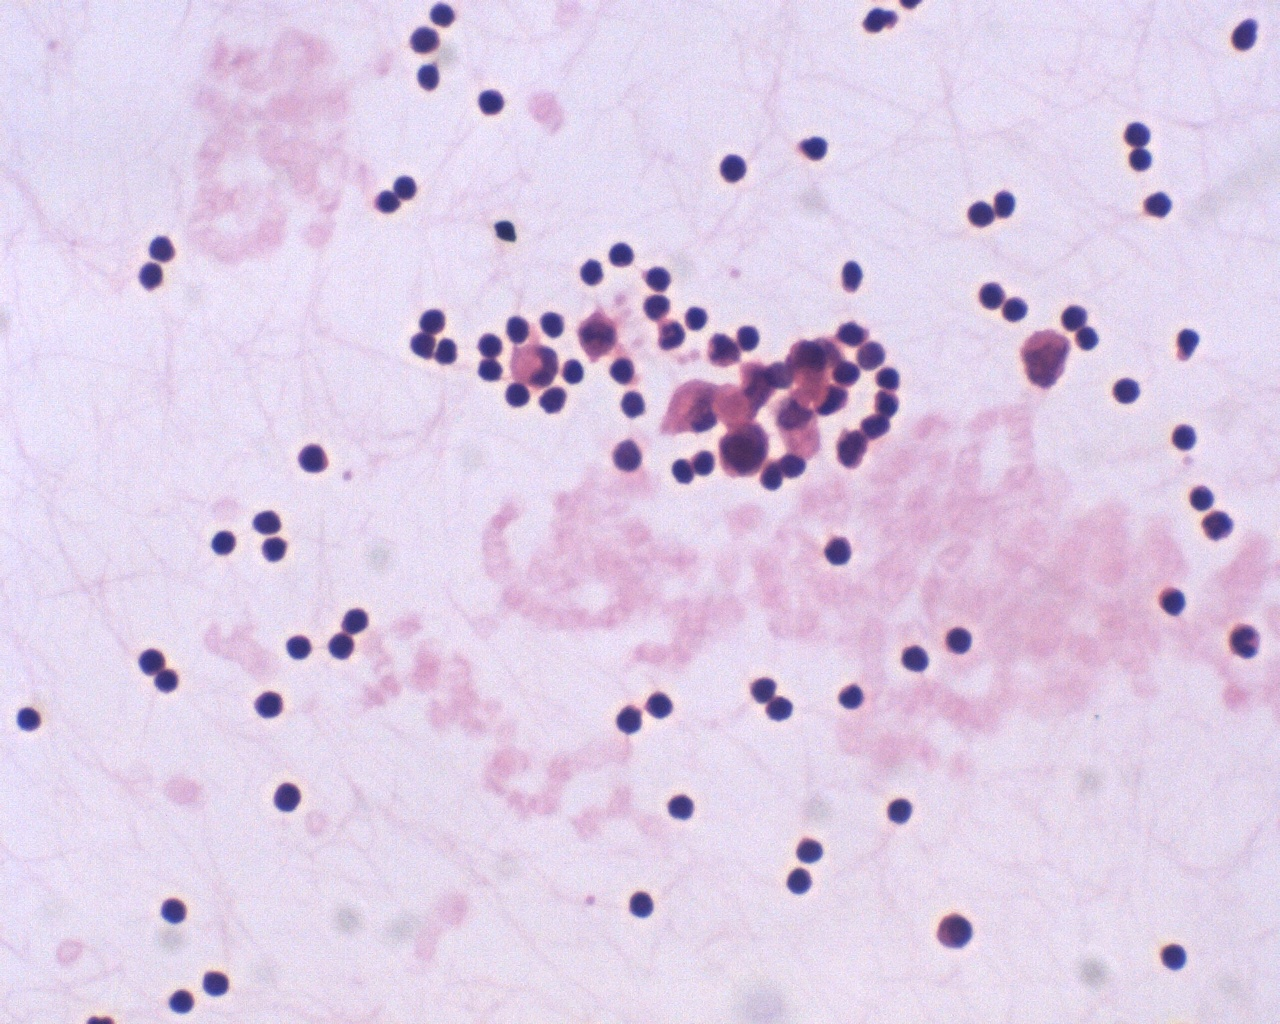ab: (718, 419, 770, 479)
lymph: (1133, 189, 1185, 227), (716, 144, 755, 193), (290, 437, 335, 480), (817, 528, 859, 573), (897, 639, 937, 679), (248, 686, 290, 723), (267, 779, 306, 817), (203, 523, 241, 561), (1153, 581, 1190, 620), (1111, 373, 1148, 411), (662, 788, 700, 824), (404, 21, 444, 55), (944, 621, 979, 657), (644, 684, 678, 721), (470, 84, 507, 118), (781, 867, 818, 900), (501, 310, 535, 345), (1155, 941, 1191, 974), (625, 886, 658, 921), (281, 631, 316, 665), (159, 897, 191, 930), (165, 983, 197, 1017), (886, 794, 918, 828), (619, 388, 652, 420), (975, 279, 1008, 311), (137, 258, 168, 293), (604, 237, 639, 267), (965, 196, 997, 230), (1121, 114, 1153, 147), (11, 701, 43, 734), (1172, 420, 1203, 453), (1186, 481, 1217, 512), (838, 680, 869, 711), (608, 354, 639, 385), (474, 331, 509, 357), (502, 380, 530, 412)
